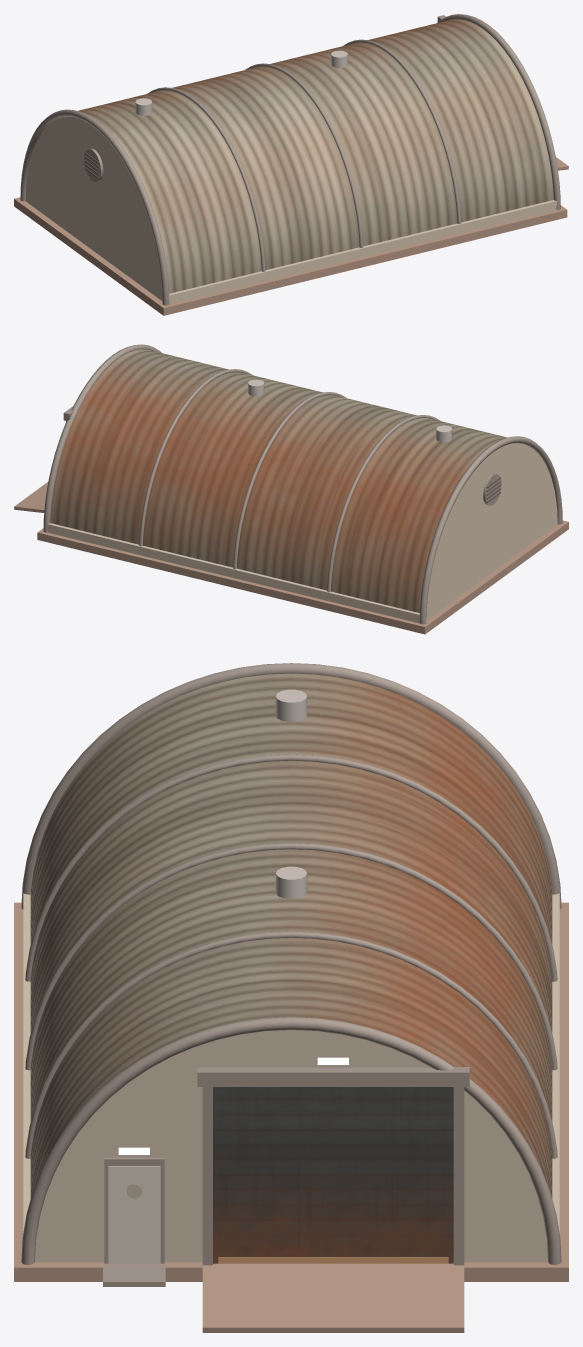
The model's file is I04_arched_hall_4seg.glb.
3 views of the same model, one above another, from view 1: azimuth 30°, elevation 25°; view 2: azimuth 150°, elevation 25°; view 3: azimuth 270°, elevation 25° (orthographic). The views are drawn at different scales.
Parts seen in each view (by area): view 1: vault, gable_wall, segment_rib, foundation, base_beam, roof_vent; view 2: vault, gable_wall, segment_rib, foundation, base_beam, roof_vent; view 3: vault, segment_rib, large_door, gable_wall, foundation, base_beam, roof_vent.
Part boxes in pixels (bbox=[...]): vault: bbox=[78, 19, 553, 293]; gable_wall: bbox=[25, 116, 162, 300]; segment_rib: bbox=[20, 14, 560, 305]; foundation: bbox=[14, 157, 568, 315]; base_beam: bbox=[84, 152, 557, 303]; roof_vent: bbox=[135, 50, 347, 115]; vault: bbox=[50, 349, 507, 612]; gable_wall: bbox=[426, 443, 557, 620]; segment_rib: bbox=[43, 344, 562, 624]; foundation: bbox=[14, 482, 568, 634]; base_beam: bbox=[47, 477, 500, 623]; roof_vent: bbox=[248, 379, 452, 442]; vault: bbox=[30, 673, 552, 1198]; segment_rib: bbox=[21, 663, 561, 1286]; large_door: bbox=[213, 1087, 453, 1263]; gable_wall: bbox=[35, 1030, 547, 1262]; foundation: bbox=[14, 902, 568, 1332]; base_beam: bbox=[23, 893, 559, 1263]; roof_vent: bbox=[275, 689, 307, 898].
Size of the model in its own units: 18.65 by 5.78 by 10.6.
Materials: 9 (2 with a texture image).
